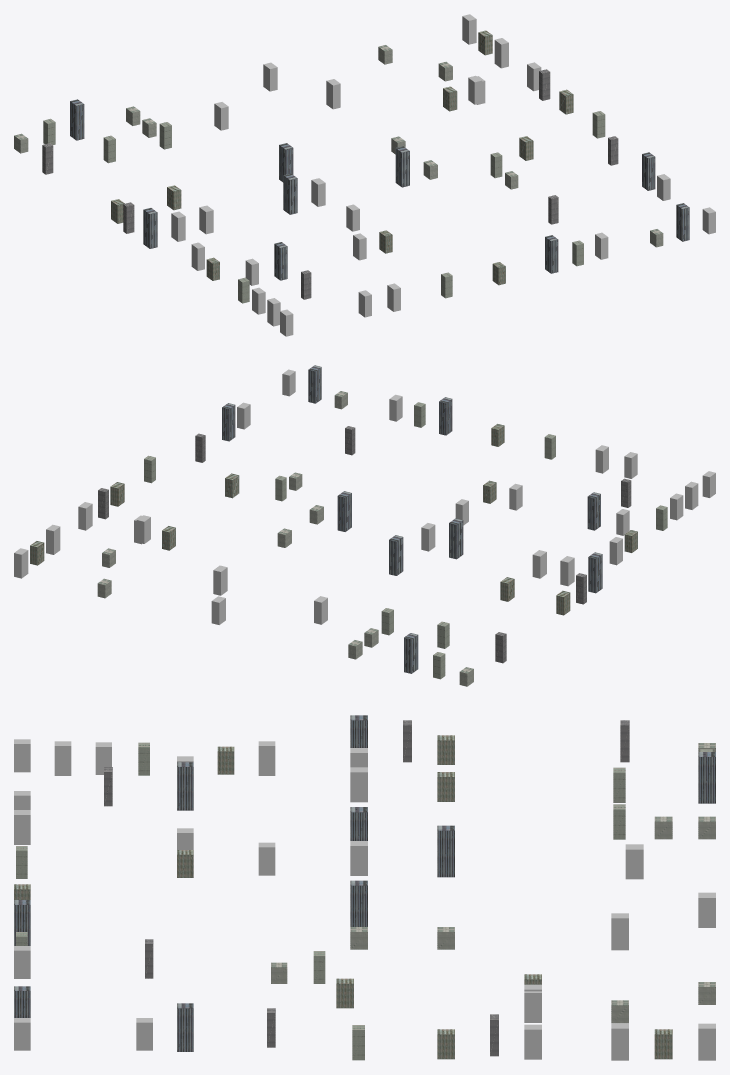
Rendered from batiments.obj.
3 views of the same model, one above another, from view 1: azimuth 30°, elevation 25°; view 2: azimuth 150°, elevation 25°; view 3: azimuth 270°, elevation 25° (orthographic). The views are drawn at different scales.
Parts seen in each view (by area): view 1: Cube.086_Cube.003; view 2: Cube.086_Cube.003; view 3: Cube.086_Cube.003.
Part boxes in pixels (bbox=[...]): Cube.086_Cube.003: bbox=[14, 14, 715, 336]; Cube.086_Cube.003: bbox=[14, 365, 715, 686]; Cube.086_Cube.003: bbox=[14, 715, 715, 1060].
Bounding box in the file's own units: 4062 × 298 × 3995.
